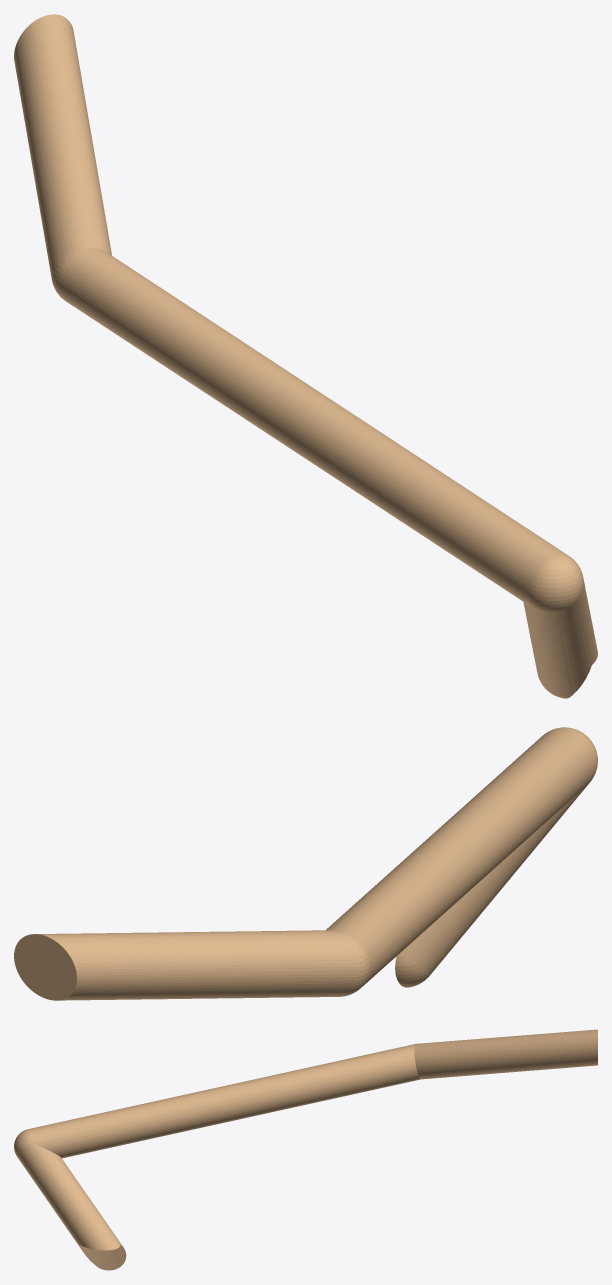
The model's file is starter-brush-pigtail-ground-3.glb.
The picture shows the model from 3 angles, top to bottom: view 1: azimuth 30°, elevation 25°; view 2: azimuth 150°, elevation 25°; view 3: azimuth 270°, elevation 25°; orthographic projection. The views are drawn at different scales.
Visible parts, largest first — view 1: world; view 2: world; view 3: world.
Boxes of the visible parts, bbox=[...] form: world: bbox=[14, 14, 597, 698]; world: bbox=[14, 727, 597, 1000]; world: bbox=[14, 1029, 597, 1270].
Size of the model in its own units: 0.00611 by 0.00867 by 0.0211.
